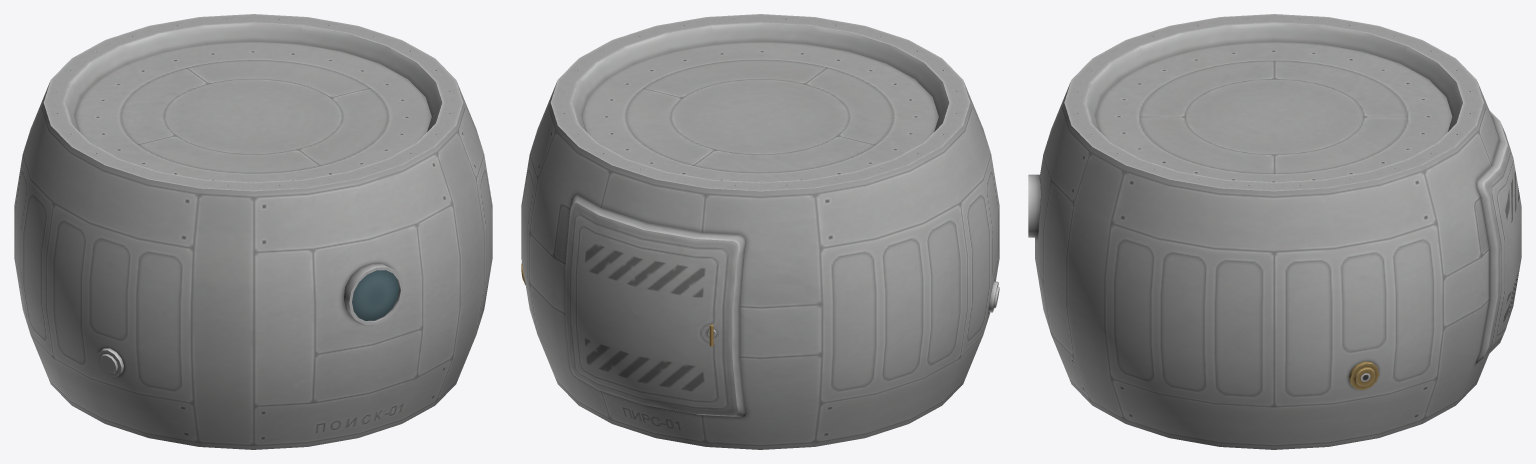
Rendered from Hadar_Crew_1.obj.
3 views of the same model, side by side, from view 1: azimuth 30°, elevation 25°; view 2: azimuth 150°, elevation 25°; view 3: azimuth 270°, elevation 25° (orthographic).
Visible parts, largest first — view 1: Hadar_Crew_1, Hadar_Crew_1_Window; view 2: Hadar_Crew_1; view 3: Hadar_Crew_1.
Part boxes in pixels (x1,y1,x2,y2): Hadar_Crew_1: [14, 14, 492, 449]; Hadar_Crew_1_Window: [352, 270, 399, 320]; Hadar_Crew_1: [521, 14, 999, 449]; Hadar_Crew_1: [1028, 14, 1521, 449].
Bounding box in the file's own units: 1.43 × 0.85 × 1.47.
